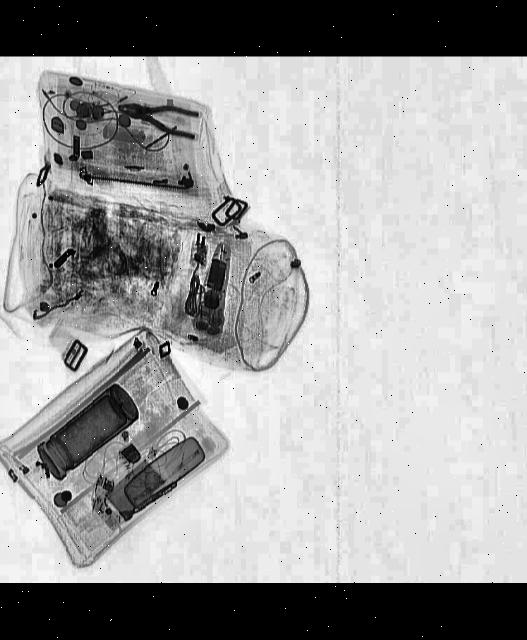Pliers: (114, 92, 202, 140)
